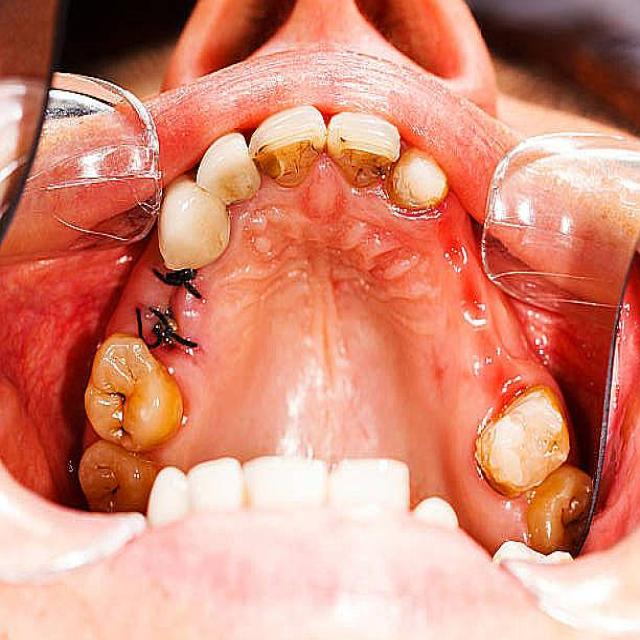caries: (245, 123, 324, 192), (325, 126, 391, 190), (549, 489, 595, 548), (88, 454, 129, 509), (100, 371, 142, 415), (106, 410, 140, 448)
